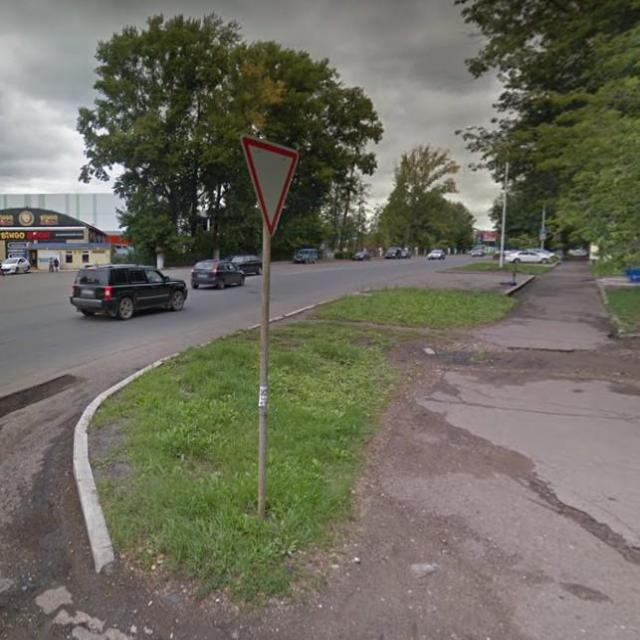traffic_sign: (234, 124, 302, 238)
